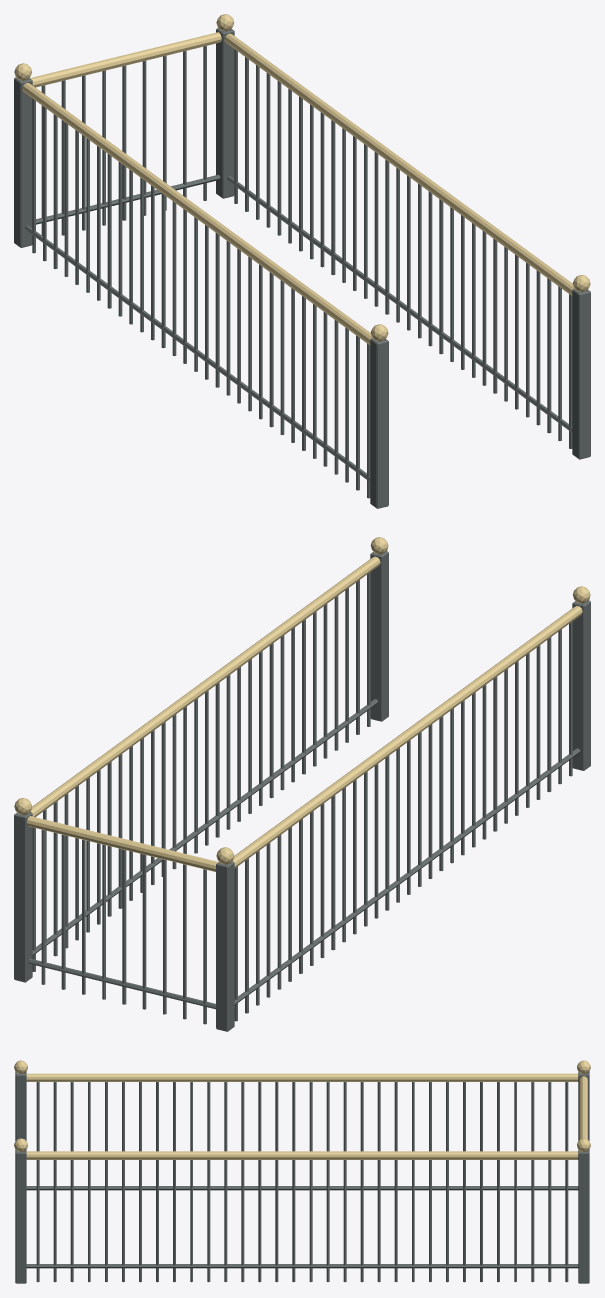
Rendered from hole_rail.glb.
The picture shows the model from 3 angles, top to bottom: view 1: azimuth 30°, elevation 25°; view 2: azimuth 150°, elevation 25°; view 3: azimuth 270°, elevation 25°; orthographic projection. The views are drawn at different scales.
Visible parts, largest first — view 1: hole_rail_iron, hole_rail_brass; view 2: hole_rail_iron, hole_rail_brass; view 3: hole_rail_iron, hole_rail_brass.
Part boxes in pixels (left/top/right/bottom): hole_rail_iron: left=14, top=28, right=590, bottom=508; hole_rail_brass: left=14, top=14, right=590, bottom=345; hole_rail_iron: left=14, top=551, right=590, bottom=1031; hole_rail_brass: left=14, top=537, right=590, bottom=871; hole_rail_iron: left=15, top=1071, right=589, bottom=1283; hole_rail_brass: left=14, top=1060, right=590, bottom=1159.
Bounding box in the file's own units: 1.4 × 1.11 × 4.07.
